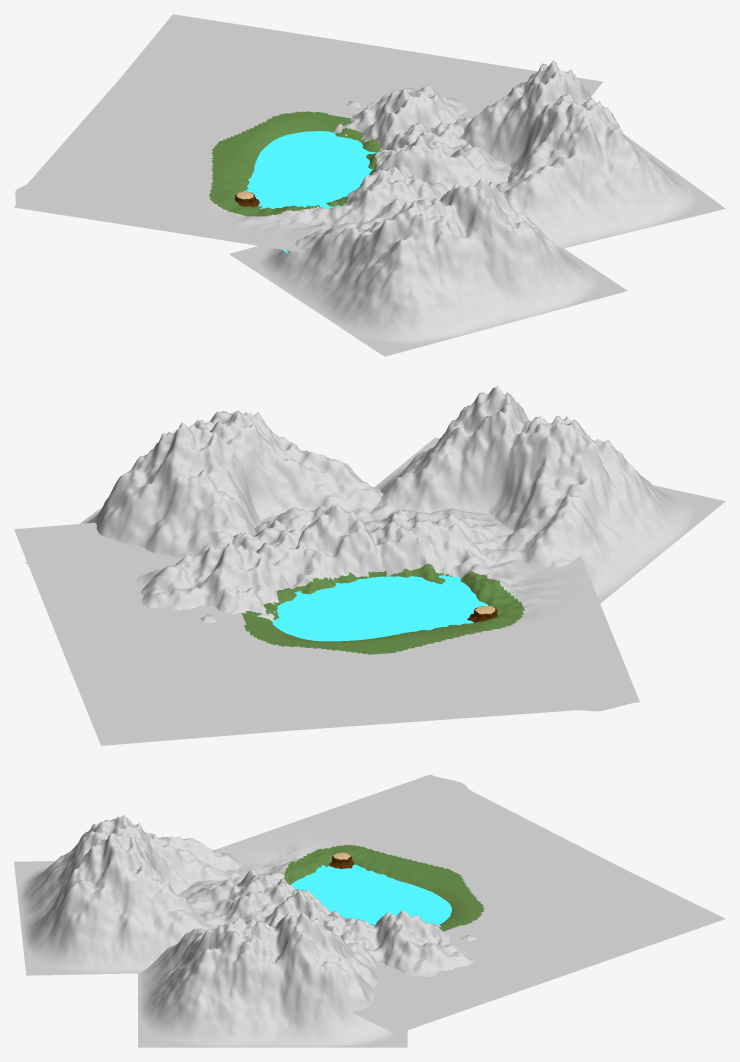
The model's file is office_buddy_baked_textures_practice2.gltf.
The picture shows the model from 3 angles, top to bottom: view 1: azimuth 30°, elevation 25°; view 2: azimuth 150°, elevation 25°; view 3: azimuth 270°, elevation 25°; orthographic projection. The views are drawn at different scales.
Visible parts, largest first — view 1: Mountains, Lake, Lake_Pit; view 2: Mountains, Lake, Lake_Pit; view 3: Mountains, Lake, Lake_Pit.
Boxes of the visible parts, <box> form: Mountains: <box>14,14,725,356</box>; Lake: <box>244,131,375,253</box>; Lake_Pit: <box>333,86,507,166</box>; Mountains: <box>14,385,725,745</box>; Lake: <box>272,575,487,641</box>; Lake_Pit: <box>136,519,307,623</box>; Mountains: <box>14,774,725,1047</box>; Lake: <box>291,864,471,925</box>; Lake_Pit: <box>319,910,476,976</box>.
Size of the model in its own units: 4.56 by 1.03 by 5.28.
